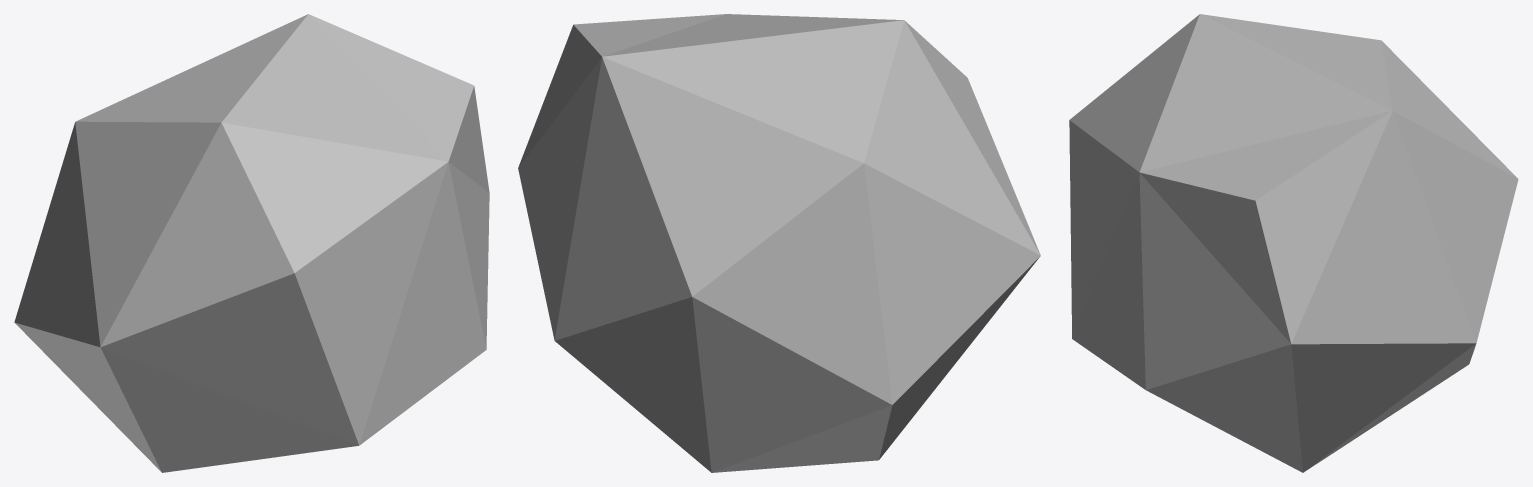
The model's file is EA03_Environment_Rock_Head_01a.glb.
3 views of the same model, side by side, from view 1: azimuth 30°, elevation 25°; view 2: azimuth 150°, elevation 25°; view 3: azimuth 270°, elevation 25° (orthographic). The views are drawn at different scales.
Parts seen in each view (by area): view 1: EA03_Environment_Rock_Head_01a; view 2: EA03_Environment_Rock_Head_01a; view 3: EA03_Environment_Rock_Head_01a.
Boxes of the visible parts, x1,y1,x2,y2 form: EA03_Environment_Rock_Head_01a: [14, 14, 489, 472]; EA03_Environment_Rock_Head_01a: [518, 14, 1040, 472]; EA03_Environment_Rock_Head_01a: [1069, 14, 1518, 472].
Bounding box in the file's own units: 0.6065 × 0.4972 × 0.5447.
1 material, 1 textured.
